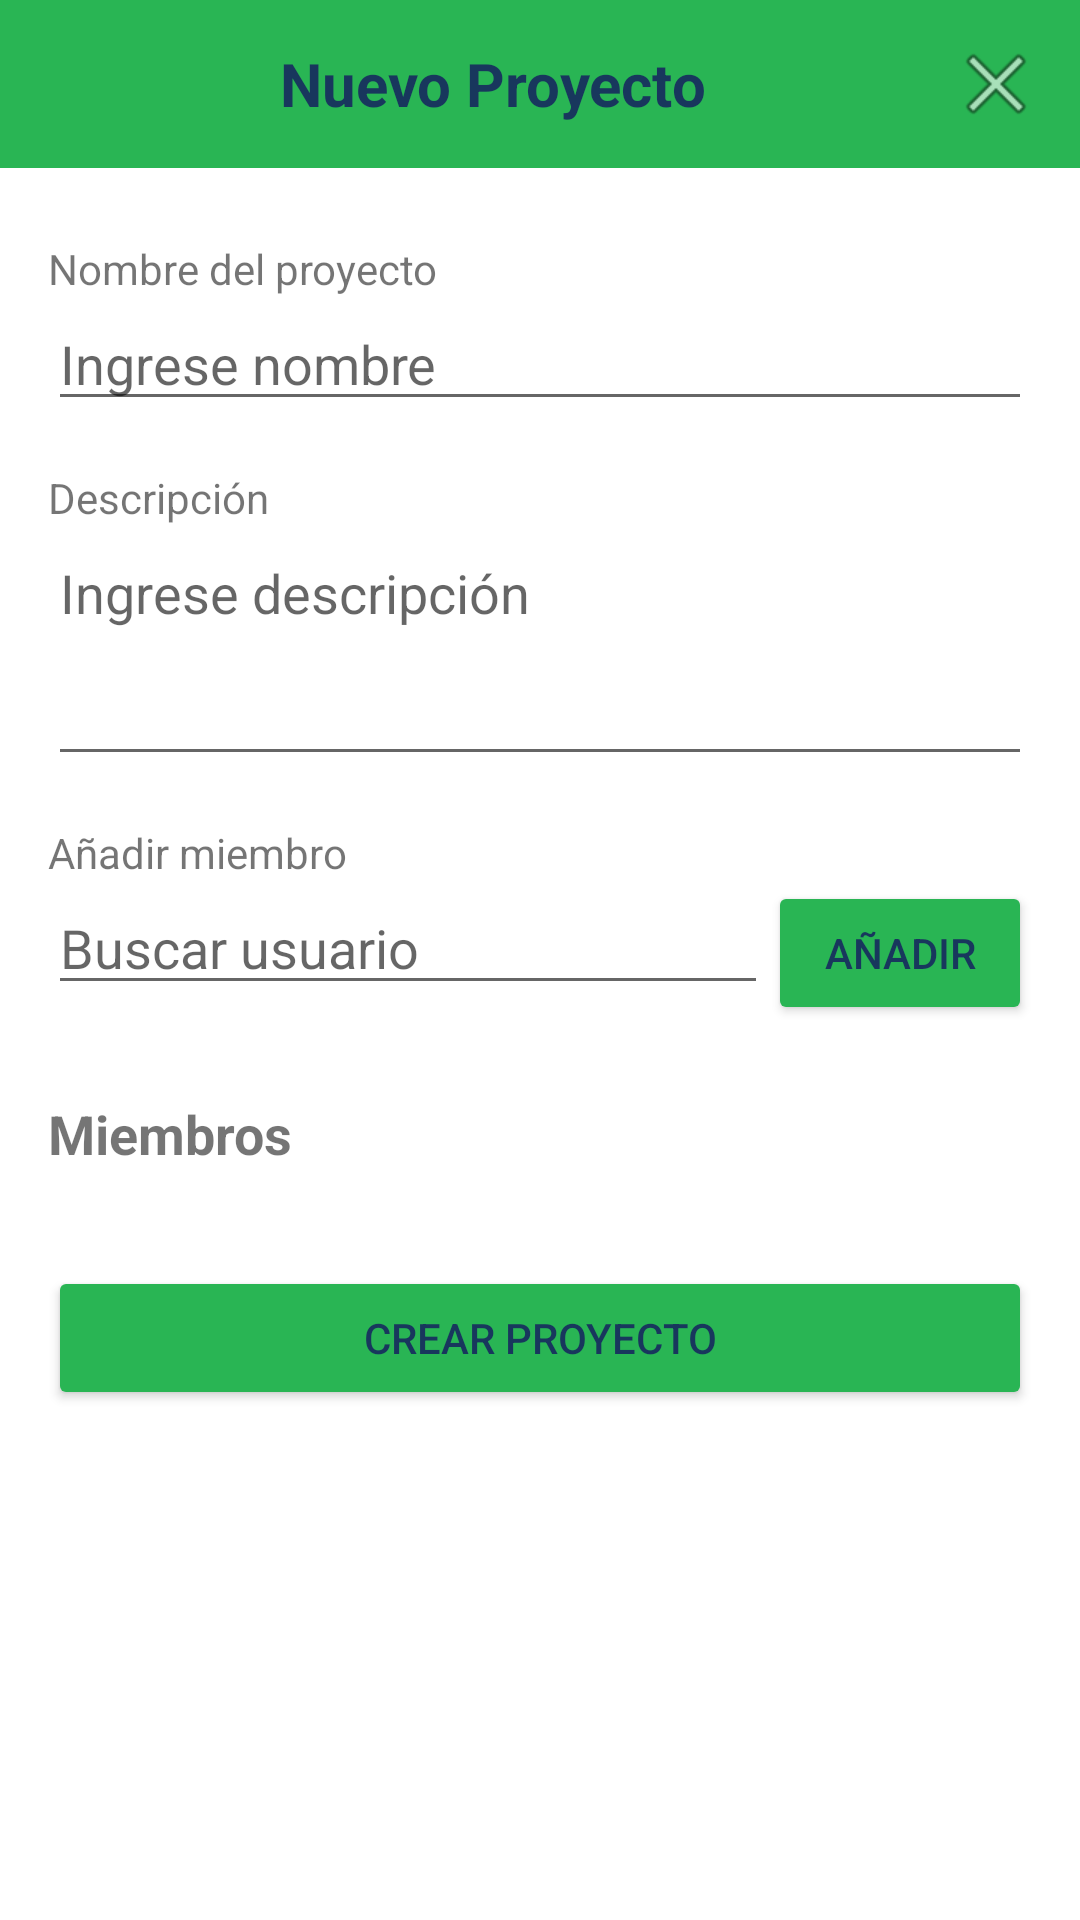

Screen size 1080×1920. Icon name, then its center in pixels as (x=x, y=y):
Cancelar: (x=996, y=84)
